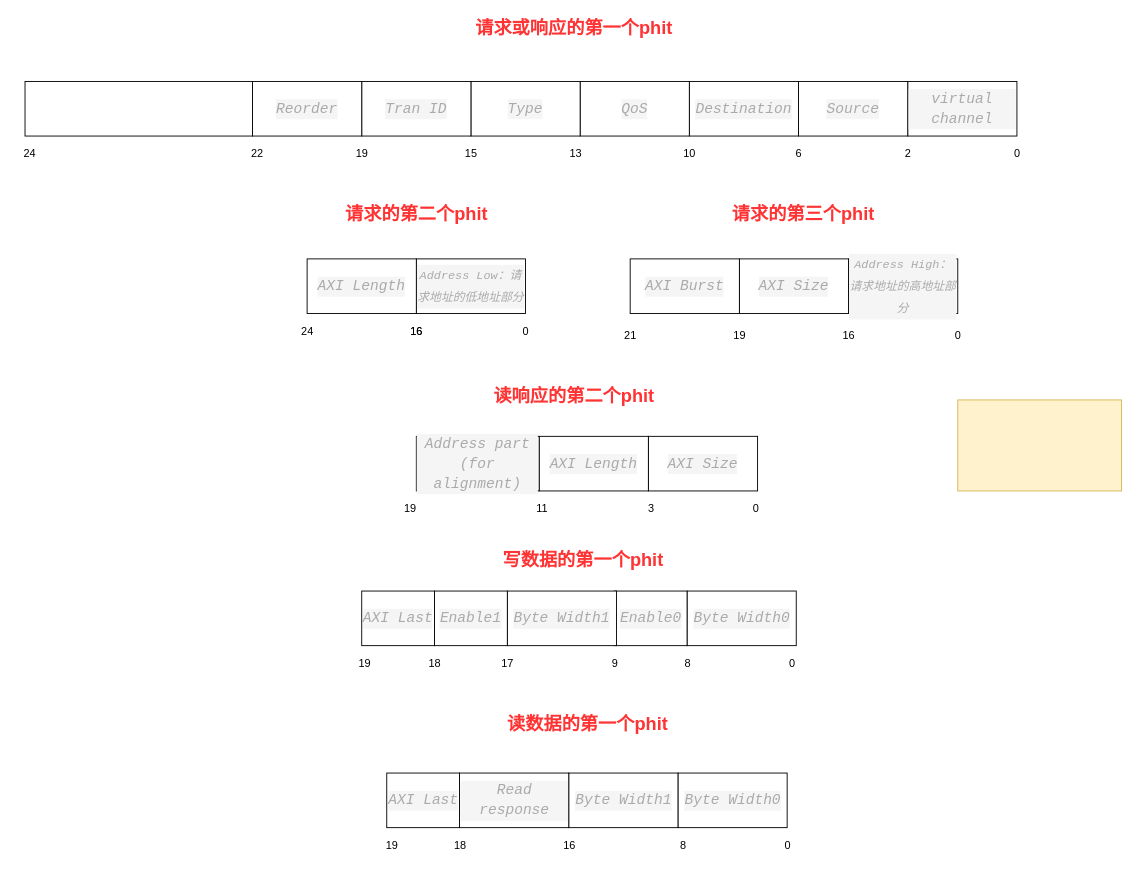
The diagram is 1138 pixels wide and 871 high, and some of its shapes have lost their labels. Each missing label, with the centre of its shape:
"写响应 写响应只有一个phit" belongs at point (1039, 445).
"对于读响应是AXI Burst；对于写响应是 Write Responce；对于请求这两位空置" belongs at point (138, 108).
